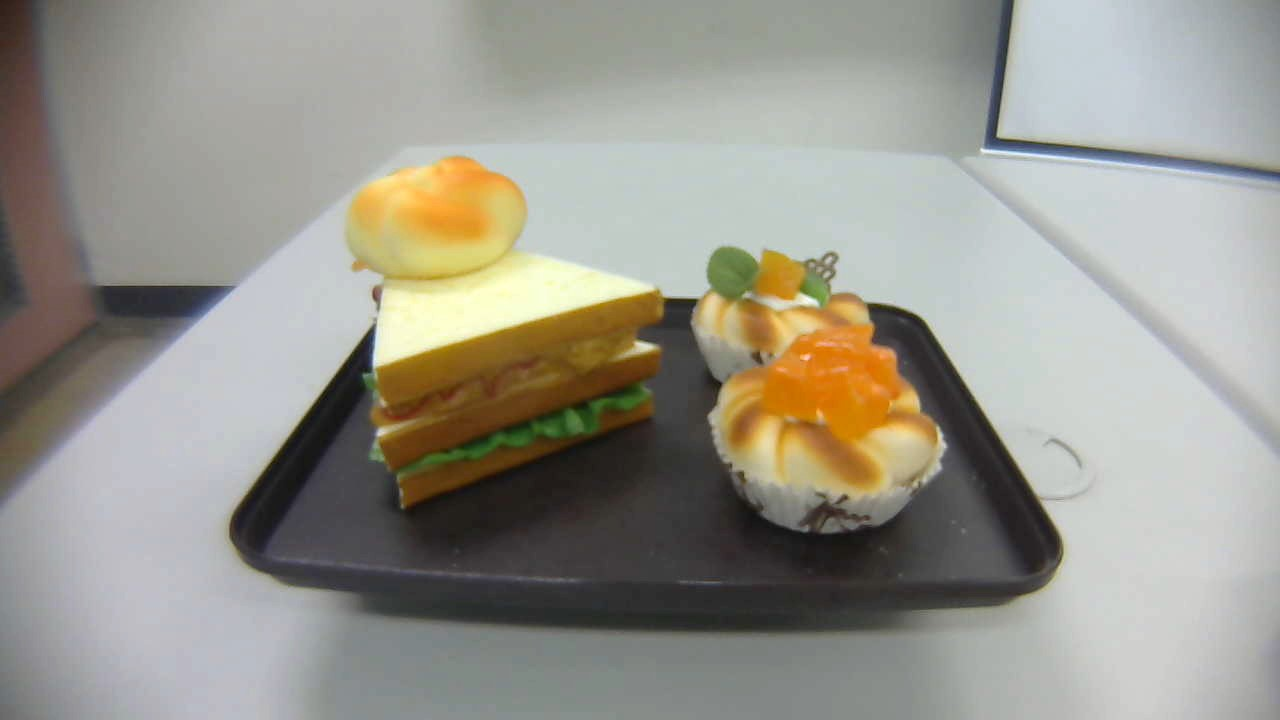fruit tart: (690, 243, 871, 387)
mango tart: (704, 323, 944, 538)
sandwich: (368, 223, 665, 512)
twist bread: (344, 156, 531, 276)
